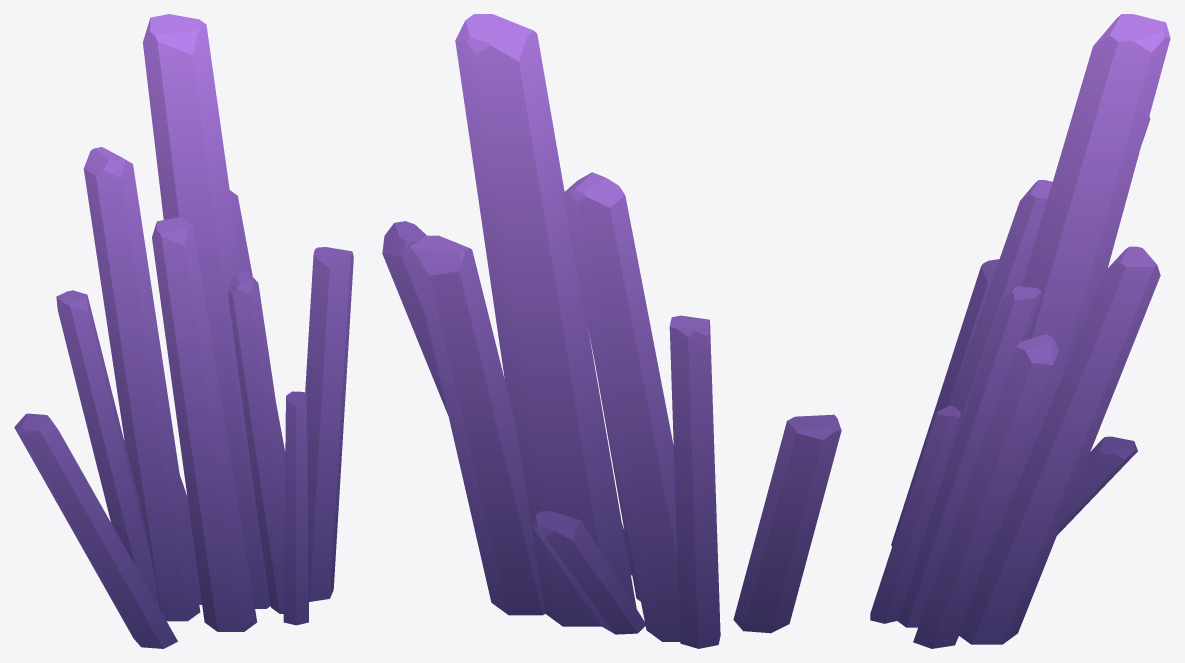
Rendered from Crystal_P_22.glb.
3 renders of one model, left to right at view 1: azimuth 30°, elevation 25°; view 2: azimuth 150°, elevation 25°; view 3: azimuth 270°, elevation 25°, orthographic. The views are drawn at different scales.
Visible parts, largest first — view 1: crystal_22; view 2: crystal_22; view 3: crystal_22.
Boxes of the visible parts, left/top/right/bottom form: crystal_22: left=14, top=14, right=353, bottom=648; crystal_22: left=382, top=14, right=841, bottom=648; crystal_22: left=870, top=14, right=1170, bottom=648.
Size of the model in its own units: 0.707 by 1 by 0.4669.
1 material, 1 textured.
